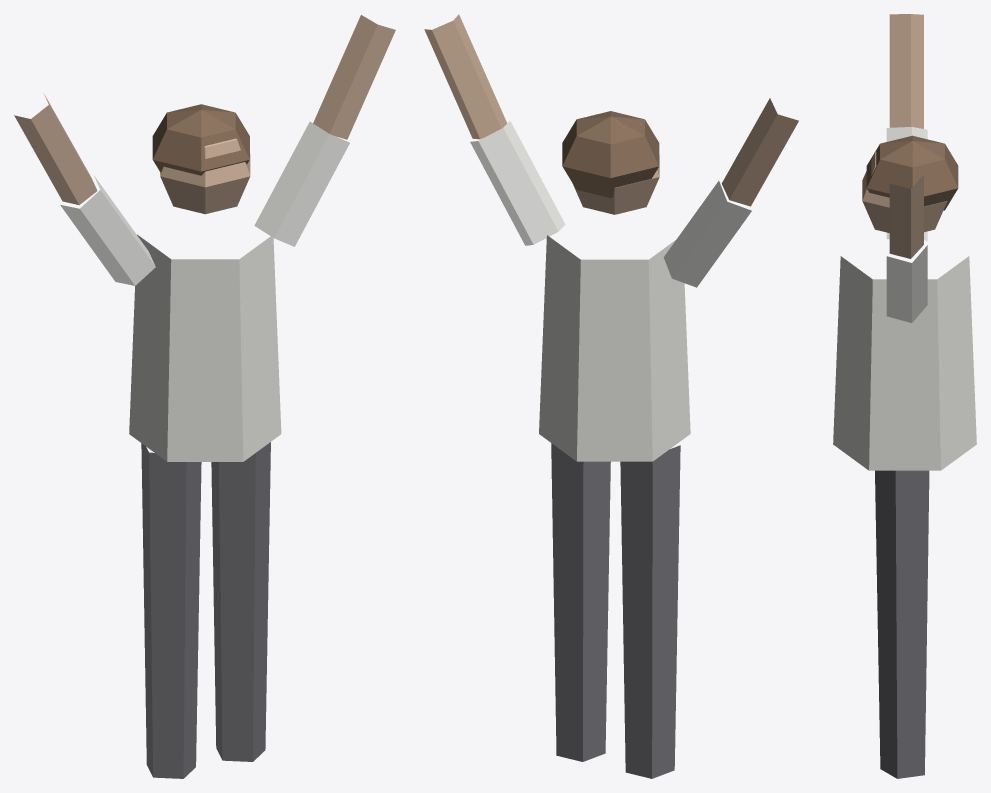
Rendered from fan_boy_cheer.glb.
3 views of the same model, side by side, from view 1: azimuth 30°, elevation 25°; view 2: azimuth 150°, elevation 25°; view 3: azimuth 270°, elevation 25° (orthographic). The views are drawn at different scales.
Parts seen in each view (by area): view 1: fan_boy_cheer; view 2: fan_boy_cheer; view 3: fan_boy_cheer.
Part boxes in pixels (left/top/right/bottom): fan_boy_cheer: left=14, top=15, right=395, bottom=778; fan_boy_cheer: left=424, top=14, right=798, bottom=778; fan_boy_cheer: left=833, top=14, right=976, bottom=778.
Bounding box in the file's own units: 1.08 × 1.94 × 0.38.
